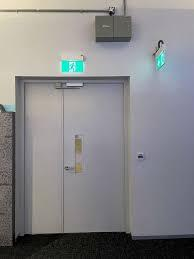exit: (24, 79, 128, 233)
lit_exit_sign: (153, 41, 165, 69), (61, 59, 84, 72)
